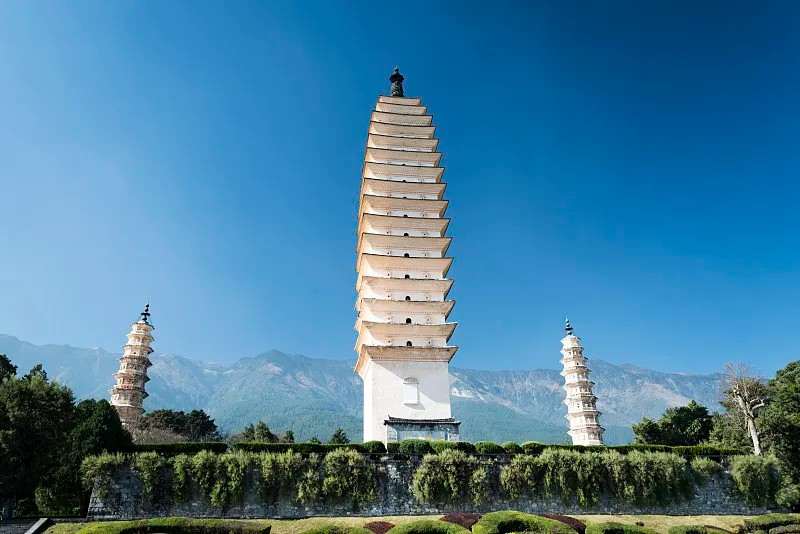ThreePagoda: (355, 64, 459, 442)
